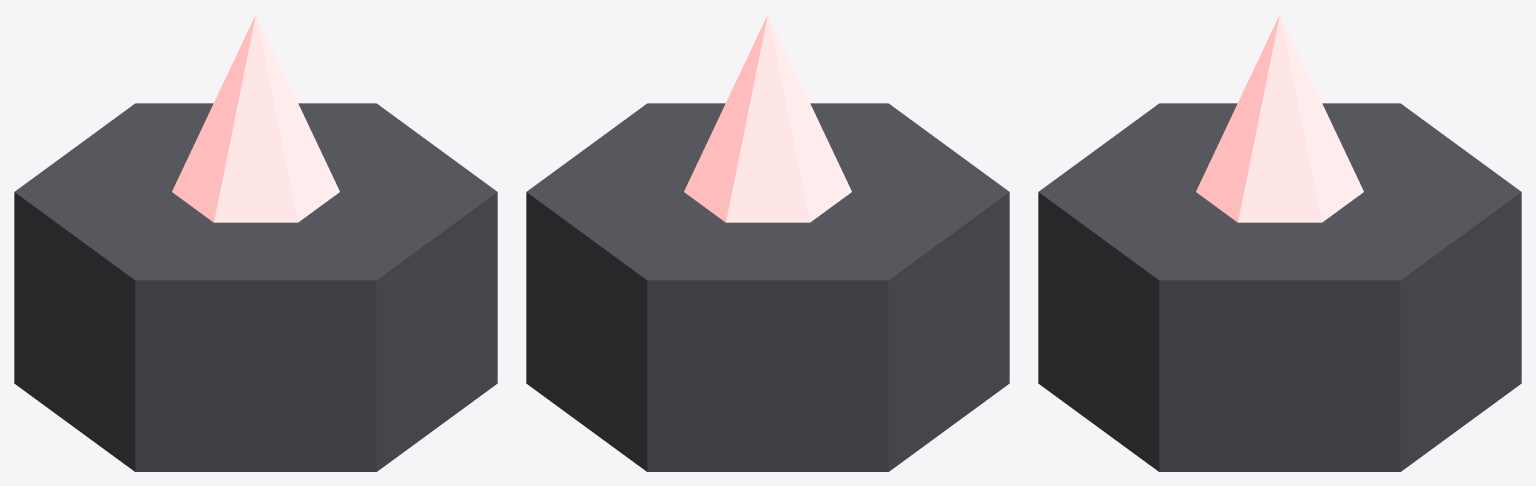
The model's file is tower_missile_lod1.glb.
3 views of the same model, side by side, from view 1: azimuth 30°, elevation 25°; view 2: azimuth 150°, elevation 25°; view 3: azimuth 270°, elevation 25° (orthographic).
Visible parts, largest first — view 1: tower_missile_lod1; view 2: tower_missile_lod1; view 3: tower_missile_lod1.
Part boxes in pixels (x1,y1,x2,y2): tower_missile_lod1: [14, 14, 497, 471]; tower_missile_lod1: [526, 14, 1009, 471]; tower_missile_lod1: [1038, 14, 1521, 471].
Size of the model in its own units: 0.6928 by 0.675 by 0.8.
